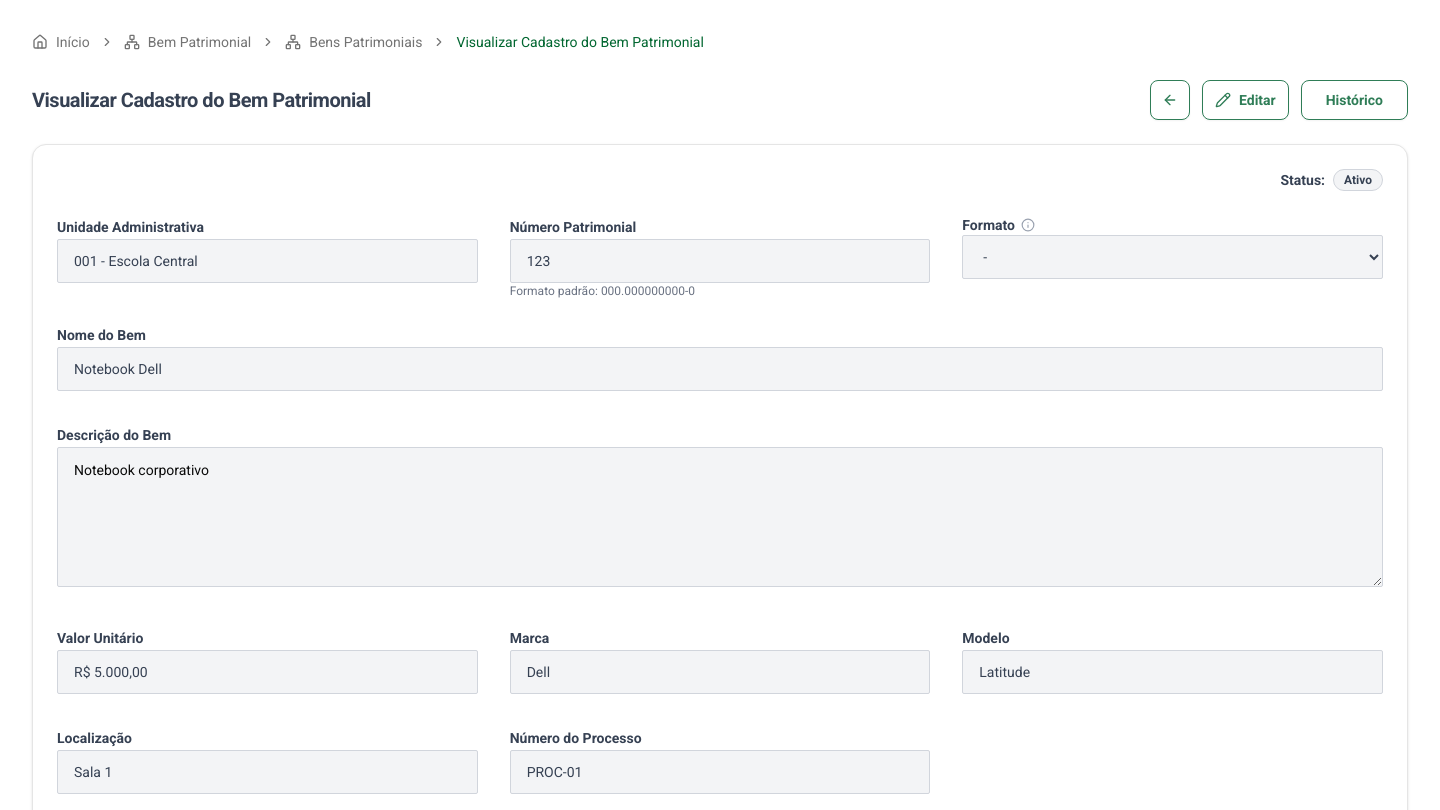
it: BemDetailPage › Campo Formato (select + tooltip) › deve exibir o tooltip informativo no campo Formato ao passar o mouse
This screenshot has width=1440, height=810.
Expected: the field showing "Notebook Dell" is shown, [57,347,1383,391]
Hover over the icon in the row of "Número Patrimonial".
mouse_move(1028, 225)  # box [1021,218,1035,232]
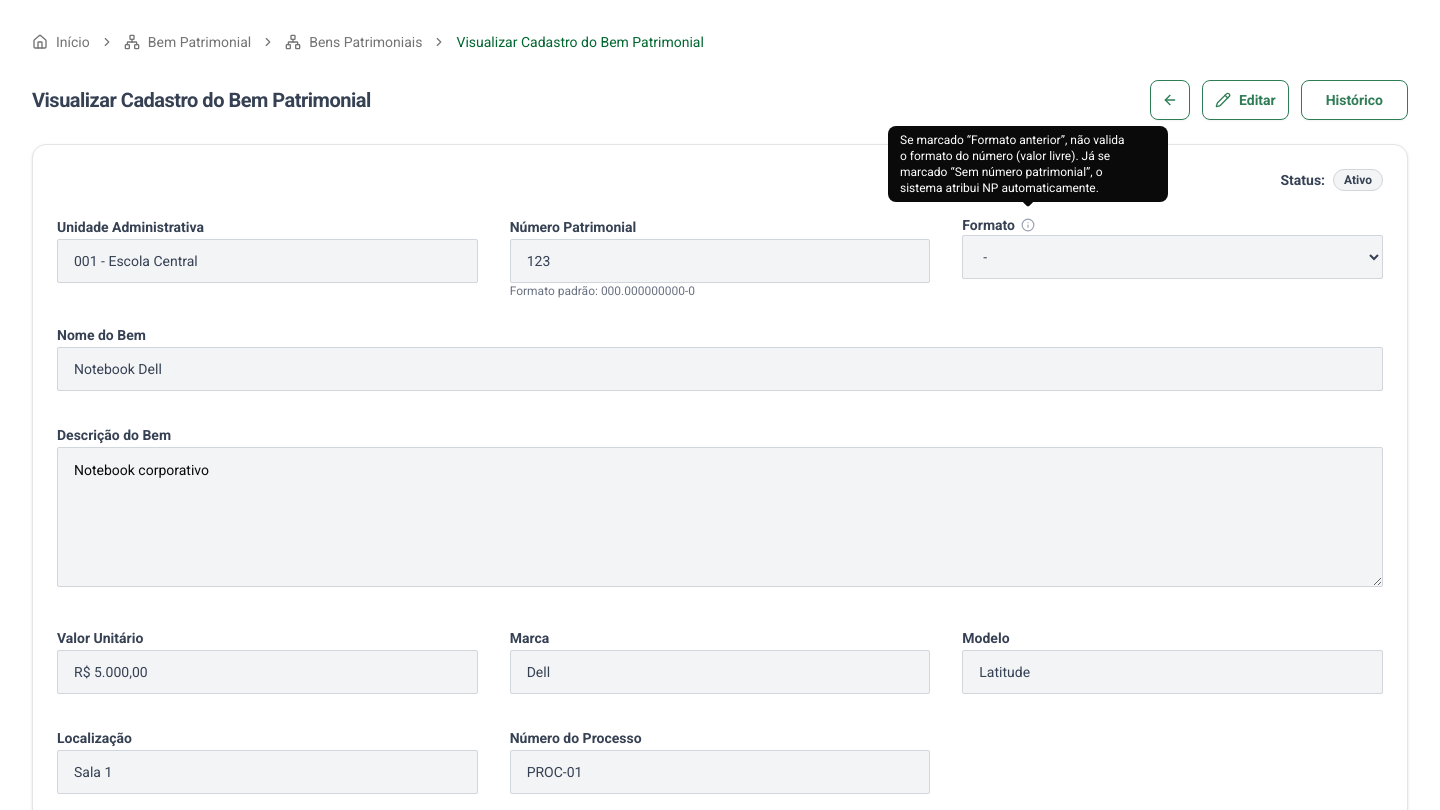
Now the tooltip is shown, box [900,133,1125,195]
